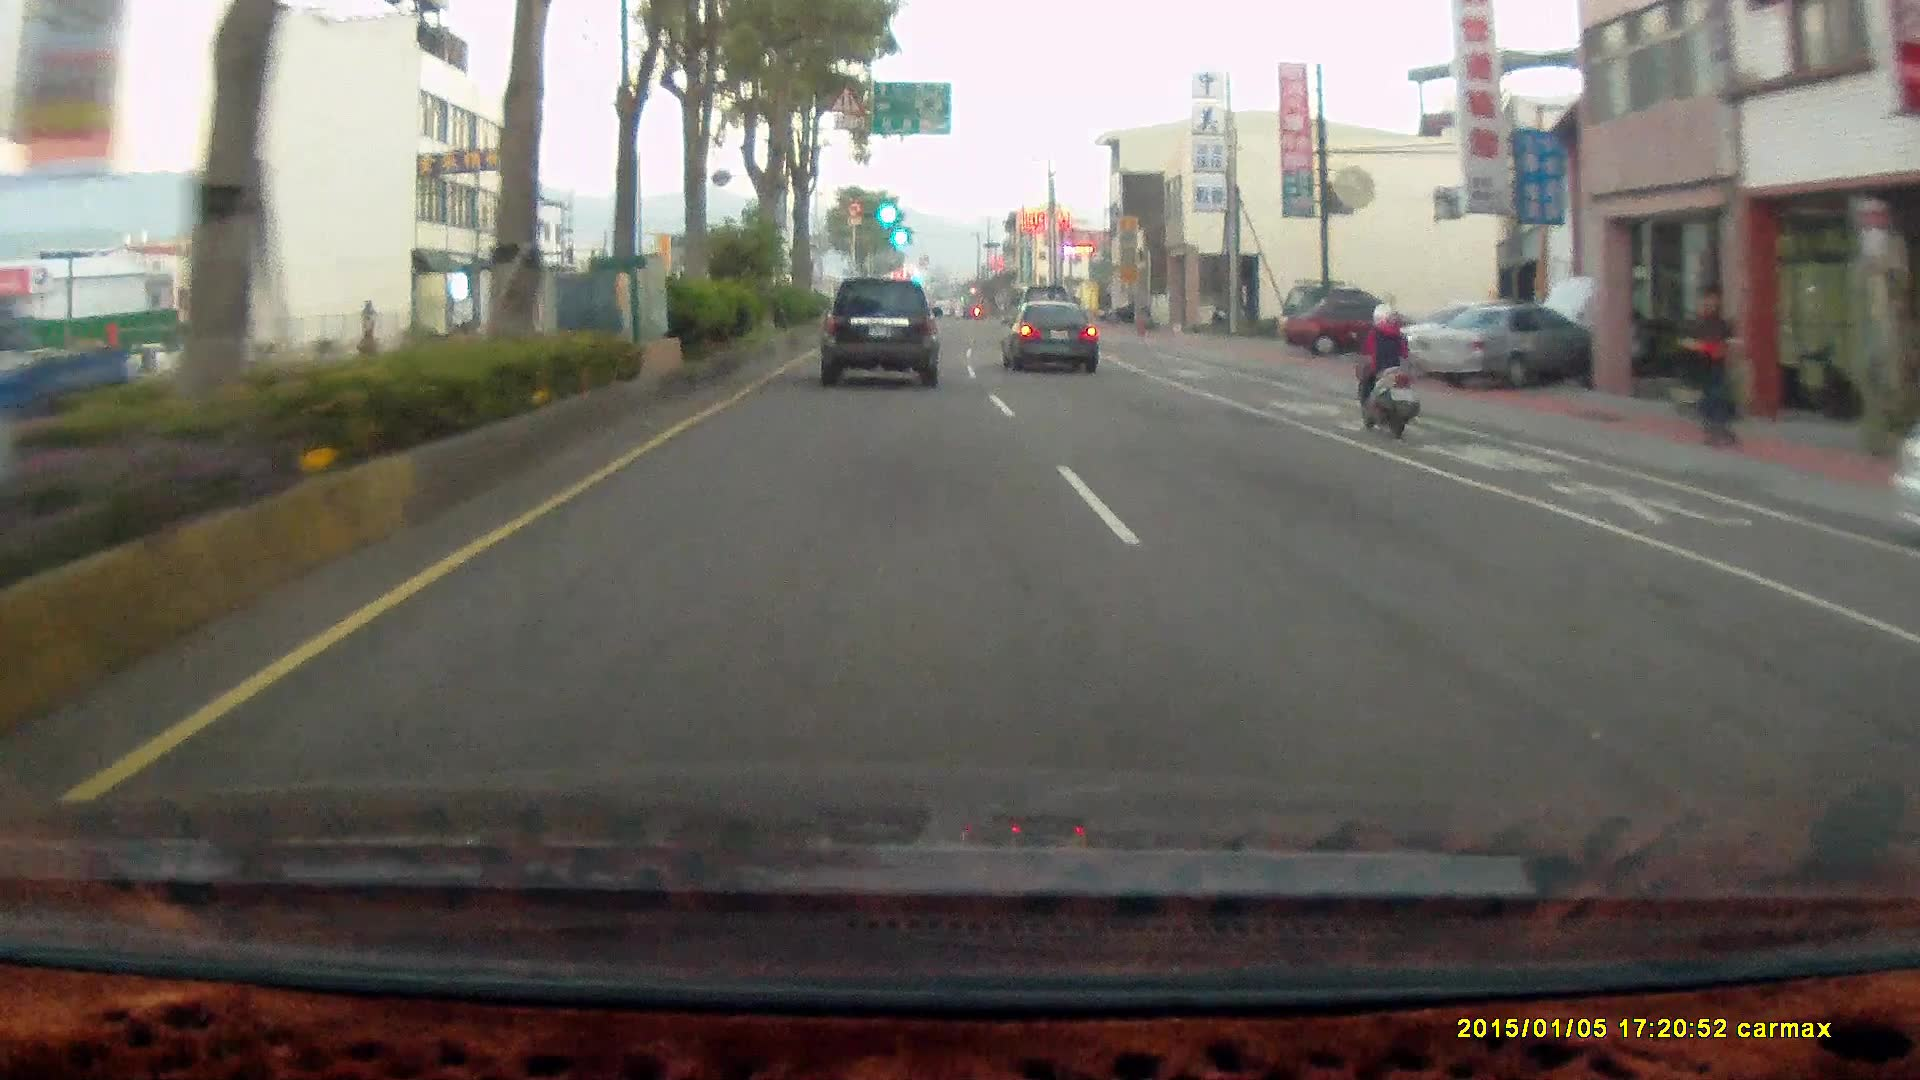pedestrian: (1681, 280, 1756, 451)
rider: (1339, 289, 1431, 450), (1350, 299, 1420, 434)
vehicle: (1, 301, 142, 444), (1422, 302, 1598, 392), (819, 280, 945, 391), (819, 275, 943, 384), (1281, 296, 1425, 361), (1281, 296, 1425, 355), (1002, 300, 1102, 375), (1000, 300, 1098, 372)
